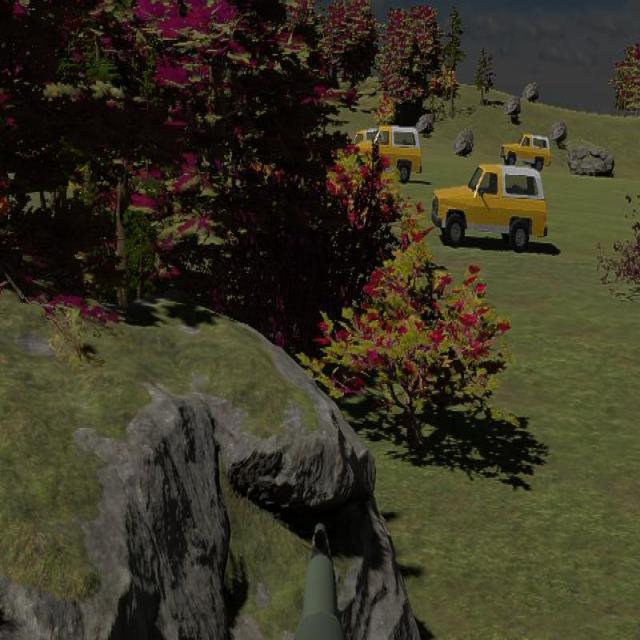car: (431, 164, 547, 252), (354, 124, 422, 184), (501, 132, 551, 172)
